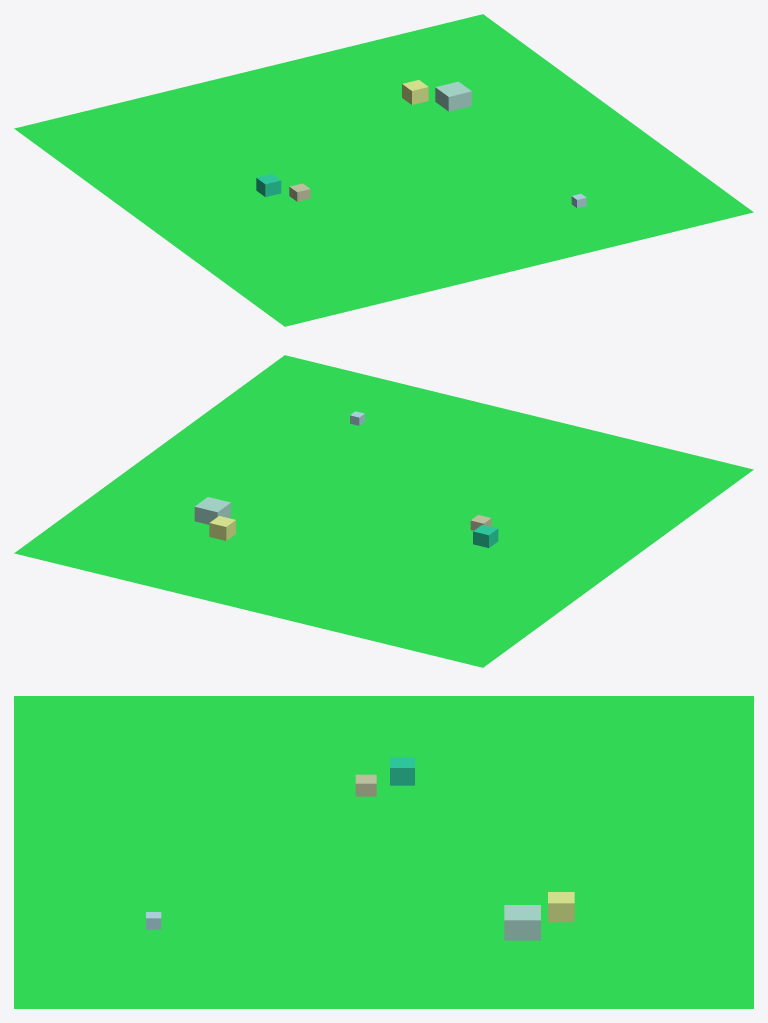
The picture shows the model from 3 angles, top to bottom: view 1: azimuth 30°, elevation 25°; view 2: azimuth 150°, elevation 25°; view 3: azimuth 270°, elevation 25°; orthographic projection. The views are drawn at different scales.
Visible parts, largest first — view 1: Chunk_-1_2; view 2: Chunk_-1_2; view 3: Chunk_-1_2.
Boxes of the visible parts, x1,y1,x2,y2 form: Chunk_-1_2: (14, 14, 753, 326); Chunk_-1_2: (14, 355, 753, 667); Chunk_-1_2: (14, 696, 753, 1008).
Bounding box in the file's own units: 1500 × 74.16 × 1500.
